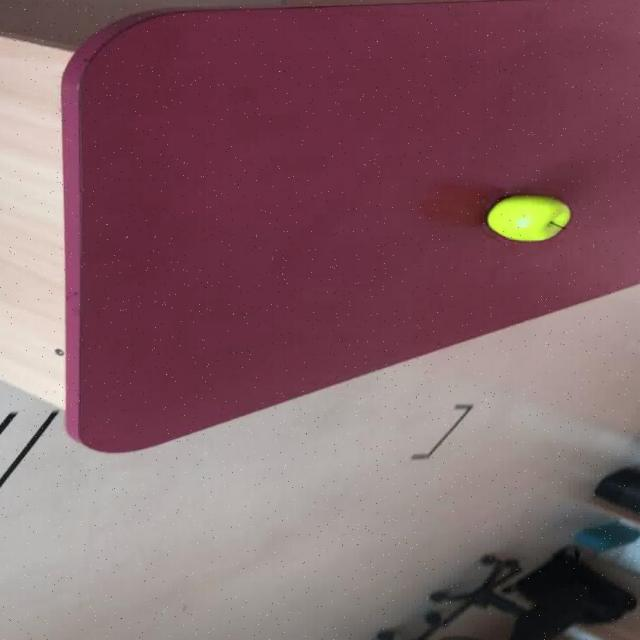Apple: (485, 194, 571, 242)
